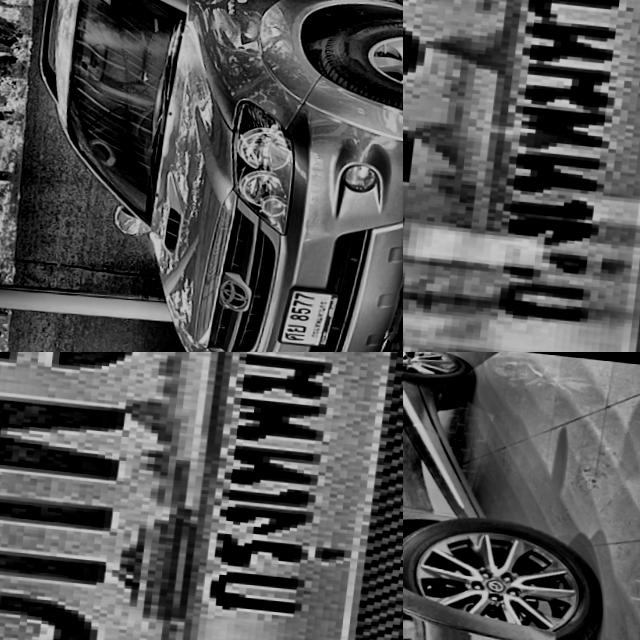license-plate: (0, 352, 403, 640), (403, 0, 640, 352), (279, 273, 360, 350)
